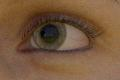eye: (34, 23, 65, 49)
